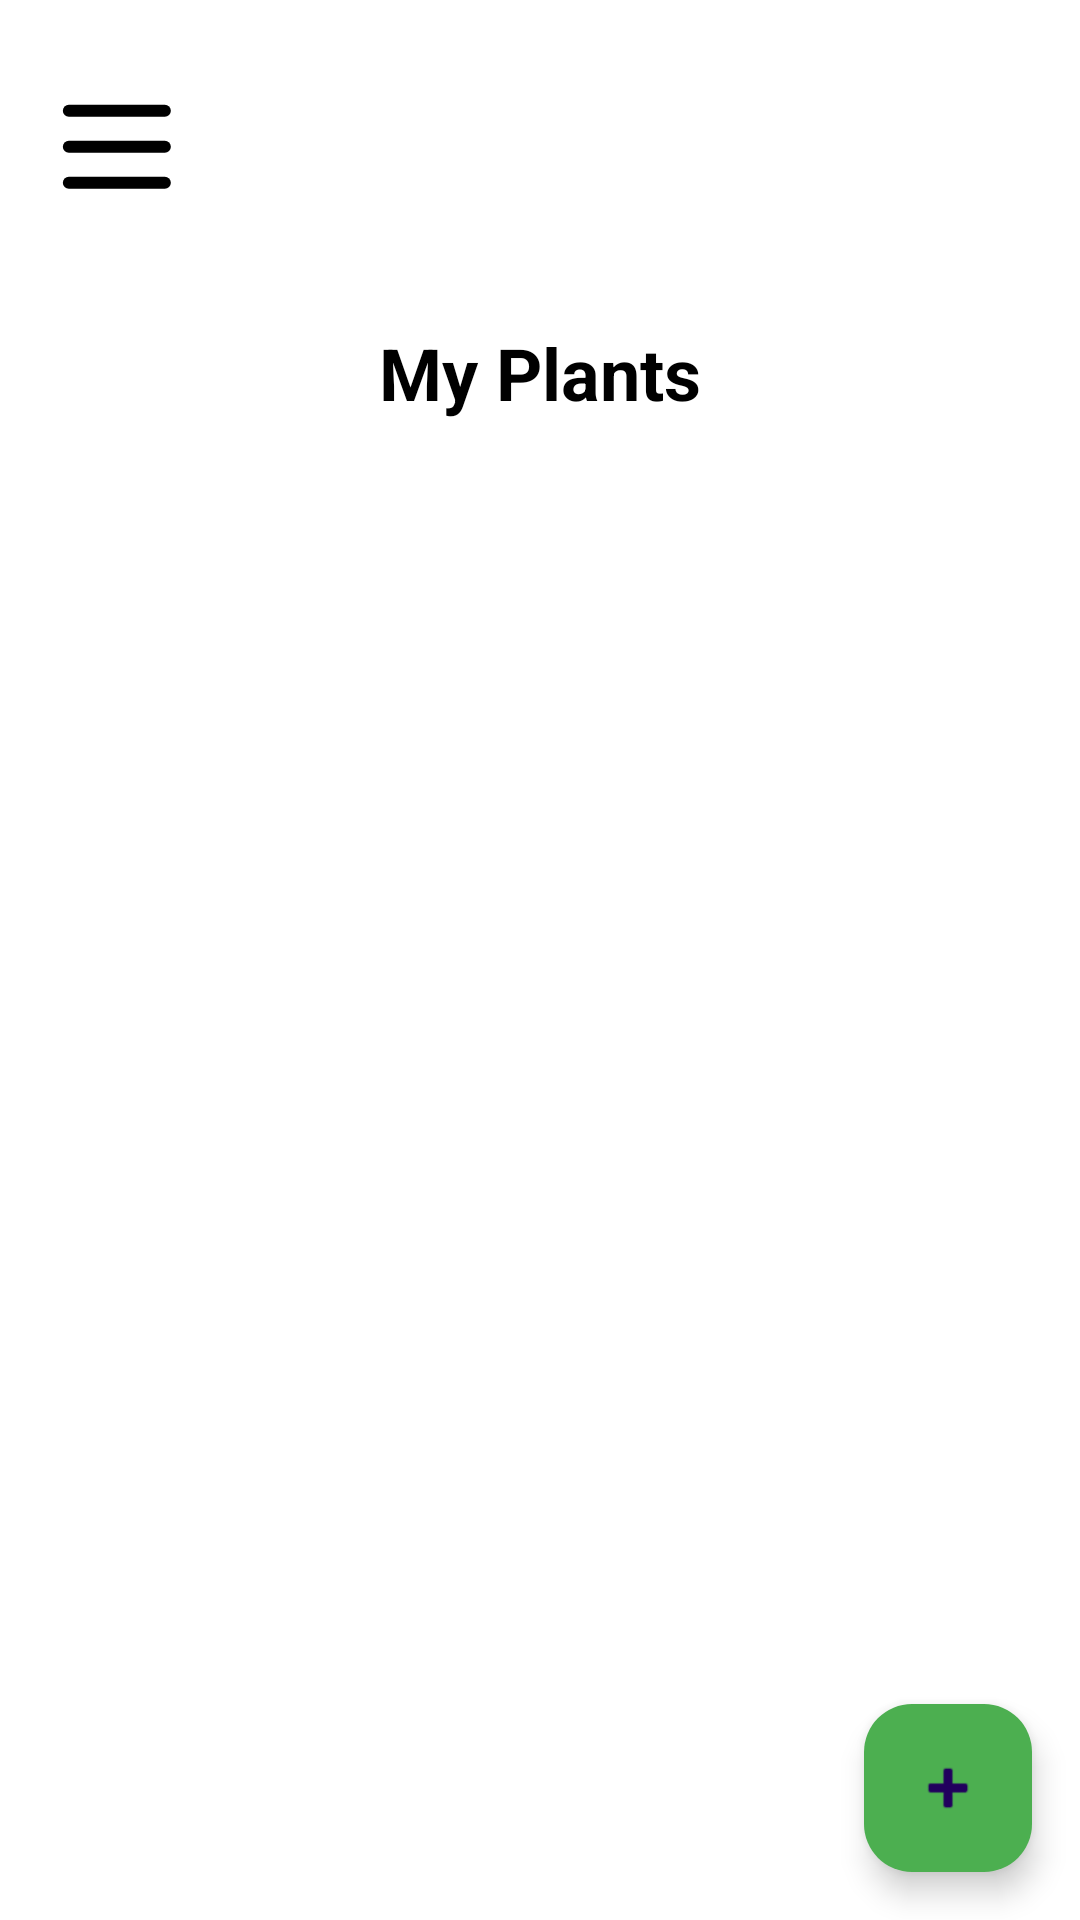

Screen size 1080px×1920px. Icon name, then its center in pixels as point (x, y):
add: point (948, 1788)
Menu: point (117, 146)
